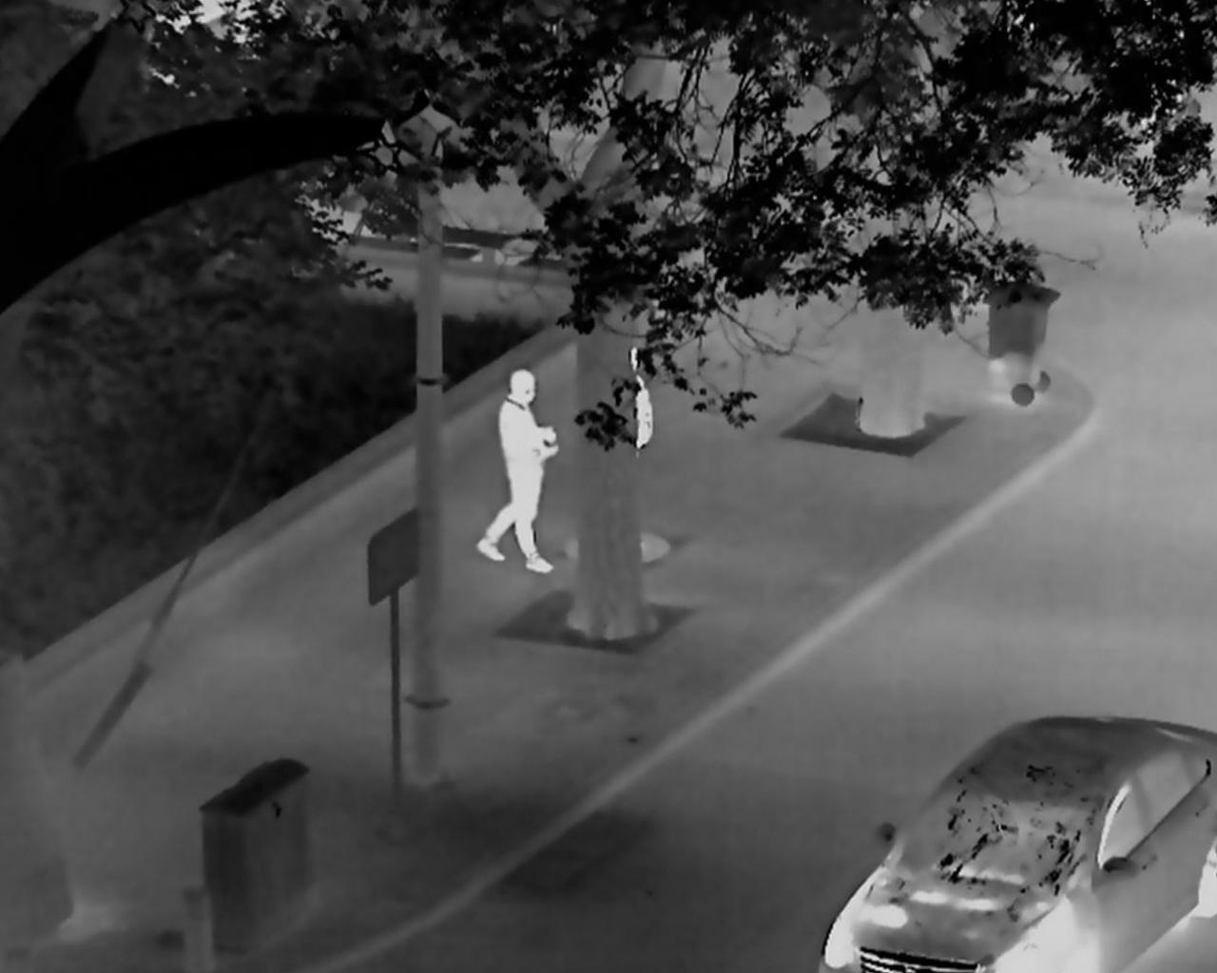person: (478, 369, 558, 575), (630, 346, 653, 454)
